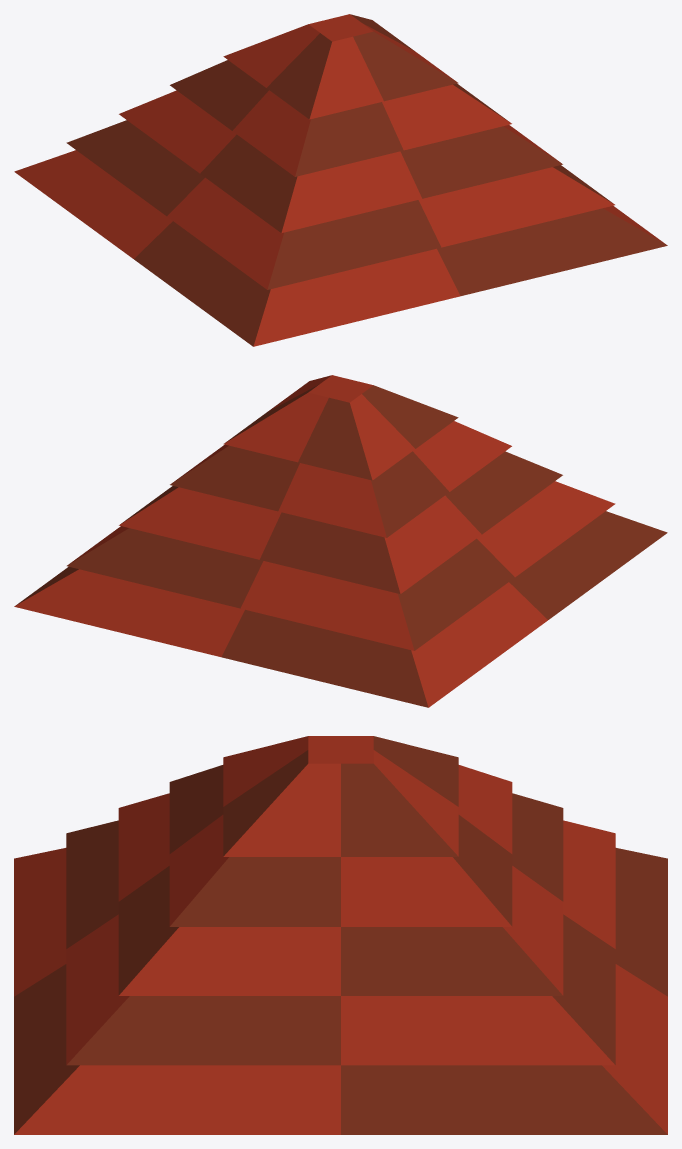
Rendered from roman_roof_tile_square.fbx.
3 views of the same model, one above another, from view 1: azimuth 30°, elevation 25°; view 2: azimuth 150°, elevation 25°; view 3: azimuth 270°, elevation 25° (orthographic). The views are drawn at different scales.
Visible parts, largest first — view 1: Cube.057; view 2: Cube.057; view 3: Cube.057.
Part boxes in pixels (left/top/right/bottom): Cube.057: left=14, top=14, right=667, bottom=346; Cube.057: left=14, top=375, right=667, bottom=707; Cube.057: left=14, top=736, right=667, bottom=1134.
Size of the model in its own units: 3.6 by 1.5 by 3.6.
1 material, 1 textured.
